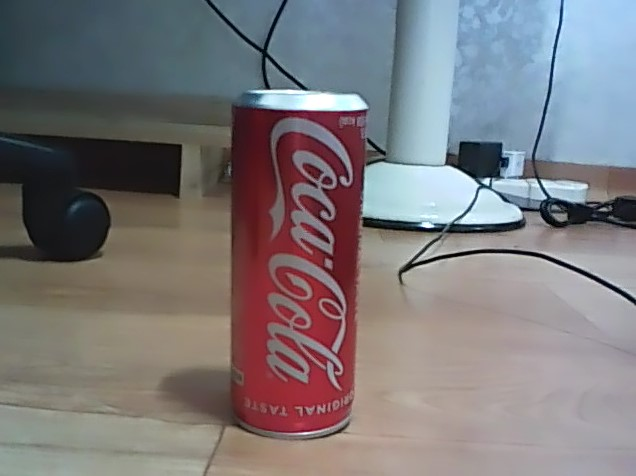Can: (225, 84, 374, 443)
